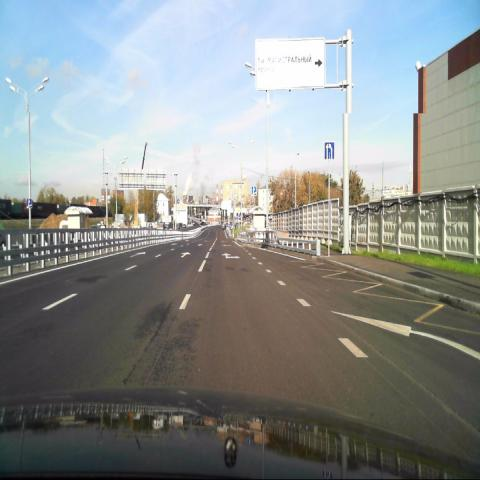5_15_5: (324, 140, 334, 160)
6_6: (251, 185, 257, 196)
